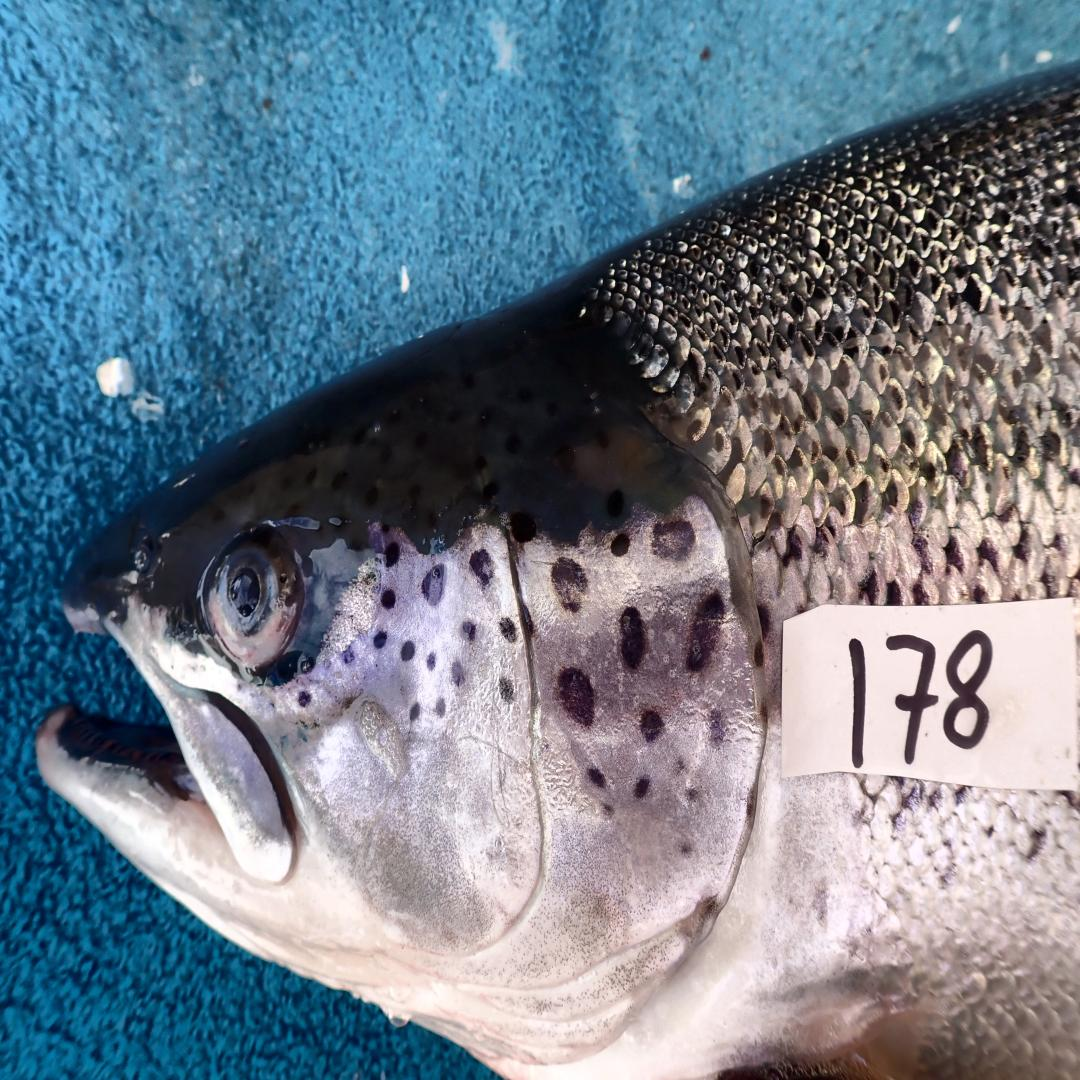spot: (686, 591, 726, 672), (557, 667, 595, 726), (551, 557, 589, 613), (652, 520, 696, 560), (620, 608, 645, 669), (468, 548, 494, 591), (422, 562, 445, 608), (517, 591, 536, 638), (639, 709, 664, 742), (709, 709, 726, 745), (369, 627, 394, 650), (612, 532, 631, 557), (500, 616, 517, 641), (683, 785, 705, 804), (633, 776, 650, 799), (500, 678, 515, 703), (380, 588, 397, 610), (462, 619, 477, 641), (386, 543, 401, 565), (451, 661, 464, 686), (589, 768, 605, 788), (401, 641, 416, 661), (409, 703, 422, 723), (599, 802, 614, 818), (675, 757, 688, 773), (435, 698, 445, 717), (426, 652, 437, 669), (297, 692, 310, 706), (679, 841, 692, 855), (342, 650, 354, 664)
